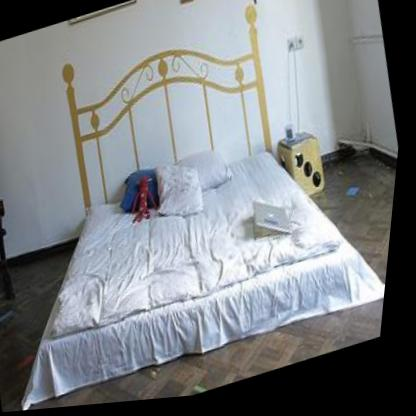Bed: (30, 52, 392, 412)
